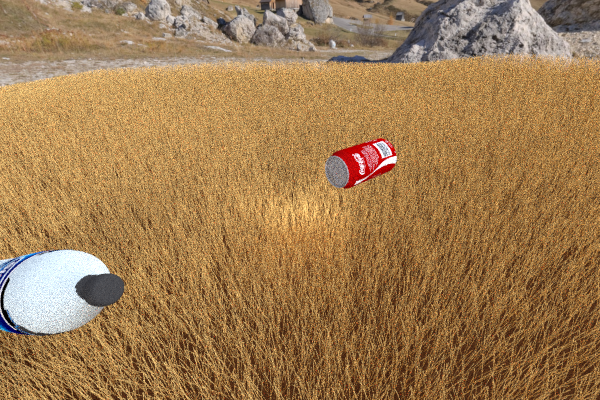Plastic Bottle: (0, 249, 124, 335), (324, 138, 396, 188), (191, 77, 230, 101)
